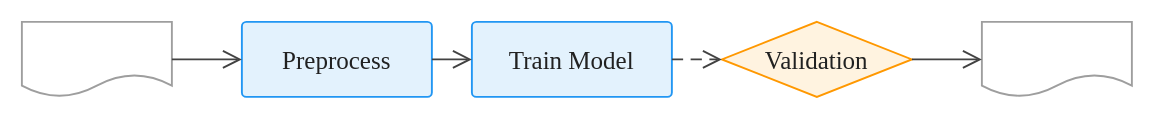
The diagram is 1155 pixels wide and 120 high, and some of its shapes have lost their labels. The centre of each missing label's shape, as x and y in pixels:
Dataset: the point at 96,58
Results: the point at 1056,58
